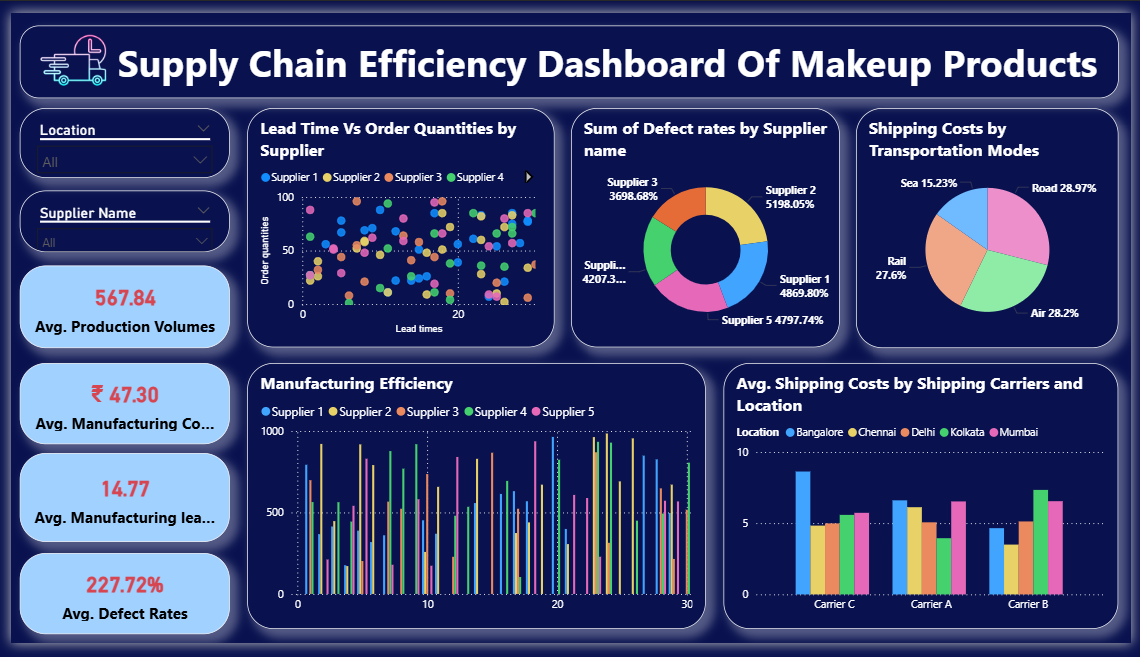

The dashboard page shown, as its layout file describes it:
{"tool":"powerbi","page":{"name":"Supply Chain Efficiency Dashboard","canvas":[1280,720],"ordinal":0},"visuals":[{"type":"donutChart","fields":{"Y":["Sum(supply_chain_data.Defect rates)"],"Category":["supply_chain_data.Supplier name"]},"box":[640,108.8,307.5,273.8],"z":0},{"type":"scatterChart","title":"Lead Time Vs Order Quantities by Supplier","fields":{"Y":["supply_chain_data.Order quantities"],"Series":["supply_chain_data.Supplier name"],"X":["supply_chain_data.Lead times"]},"box":[270,108.8,351.2,273.8],"z":1000},{"type":"card","fields":{"Values":["Avg(supply_chain_data.Manufacturing costs)"]},"box":[10,400,240,92.9],"z":2000},{"type":"card","fields":{"Values":["Avg(supply_chain_data.Production volumes)"]},"box":[10,288.6,240,94.3],"z":3000},{"type":"card","fields":{"Values":["Avg(supply_chain_data.Manufacturing lead time)"]},"box":[10,502.9,240,101.4],"z":4000},{"type":"card","fields":{"Values":["Avg(supply_chain_data.Defect rates)"]},"box":[10,617.1,240,92.9],"z":5000},{"type":"clusteredColumnChart","title":"Avg. Shipping Costs by Shipping Carriers and Location","fields":{"Category":["supply_chain_data.Shipping carriers"],"Y":["Avg(supply_chain_data.Shipping costs)"],"Series":["supply_chain_data.Location"]},"box":[814.3,400,451.4,304.3],"z":6000},{"type":"textbox","box":[10,14.3,1255.7,82.9],"z":7000},{"type":"slicer","fields":{"Values":["supply_chain_data.Supplier name"]},"box":[10,202.9,240,70],"z":8000},{"type":"pieChart","title":"Shipping Costs by Transportation Modes ","fields":{"Category":["supply_chain_data.Transportation modes"],"Y":["Sum(supply_chain_data.Shipping costs)"]},"box":[965.7,108.6,300,274.3],"z":9000},{"type":"slicer","fields":{"Values":["supply_chain_data.Location"]},"box":[10,108.6,240,80],"z":10000},{"type":"clusteredColumnChart","title":"Manufacturing Efficiency","fields":{"Category":["supply_chain_data.Manufacturing lead time"],"Y":["Avg(supply_chain_data.Production volumes)"],"Series":["supply_chain_data.Supplier name"]},"box":[270,400,523.8,303.8],"z":11000},{"type":"image","box":[0,0,142.9,108.6],"z":12000}]}

Visuals, with their boxes in screenshot pixels (x1, y1, x2, y2), scaled from the page's 1280x720 canvas onto the 1140x657 screenshot:
donutChart - Sum(supply_chain_data.Defect rates) x supply_chain_data.Supplier name: 570, 99, 844, 349
"Lead Time Vs Order Quantities by Supplier" scatterChart: 240, 99, 553, 349
card - Avg(supply_chain_data.Manufacturing costs): 9, 365, 223, 450
card - Avg(supply_chain_data.Production volumes): 9, 263, 223, 349
card - Avg(supply_chain_data.Manufacturing lead time): 9, 459, 223, 551
card - Avg(supply_chain_data.Defect rates): 9, 563, 223, 648
"Avg. Shipping Costs by Shipping Carriers and Location" clusteredColumnChart: 725, 365, 1127, 643
textbox: 9, 13, 1127, 89
slicer - supply_chain_data.Supplier name: 9, 185, 223, 249
"Shipping Costs by Transportation Modes " pieChart: 860, 99, 1127, 349
slicer - supply_chain_data.Location: 9, 99, 223, 172
"Manufacturing Efficiency" clusteredColumnChart: 240, 365, 707, 642
image: 0, 0, 127, 99
